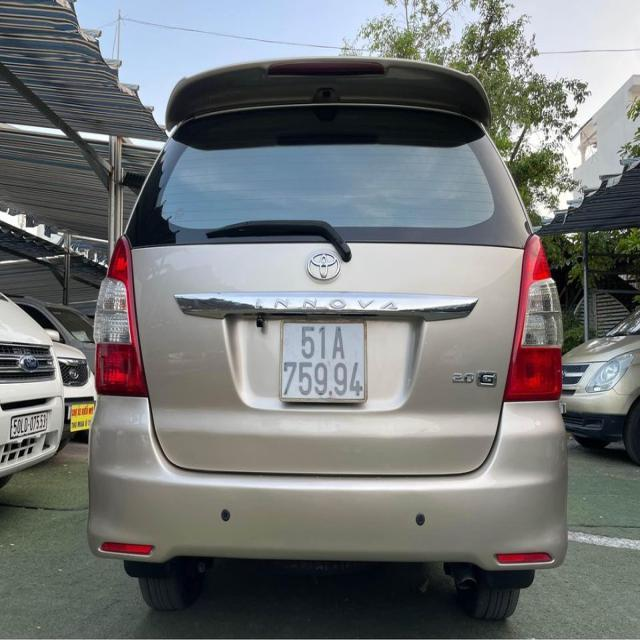car: (91, 50, 572, 631), (0, 202, 88, 523), (563, 272, 640, 477)
plate: (268, 311, 375, 412), (2, 406, 63, 449)
